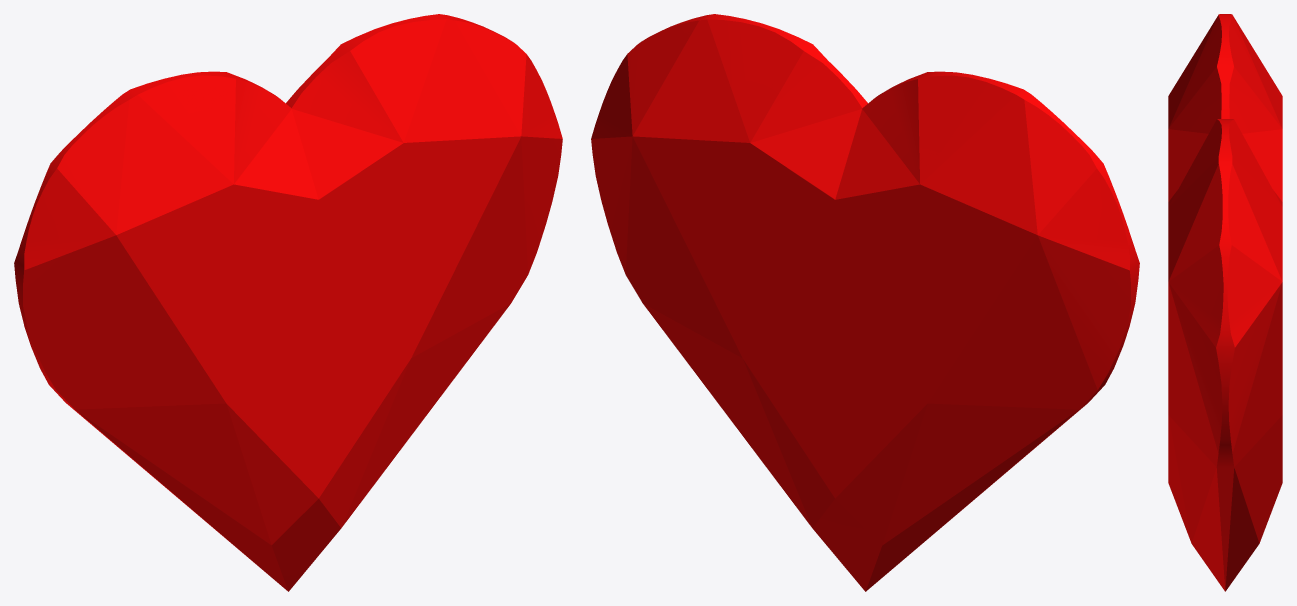
The picture shows the model from 3 angles, left to right: view 1: azimuth 30°, elevation 25°; view 2: azimuth 150°, elevation 25°; view 3: azimuth 270°, elevation 25°; orthographic projection. The views are drawn at different scales.
Visible parts, largest first — view 1: xxx; view 2: xxx; view 3: xxx.
Part boxes in pixels (left/top/right/bottom): xxx: left=14, top=14, right=562, bottom=591; xxx: left=591, top=14, right=1139, bottom=591; xxx: left=1168, top=14, right=1282, bottom=591.
Bounding box in the file's own units: 131 × 126 × 25.53.
